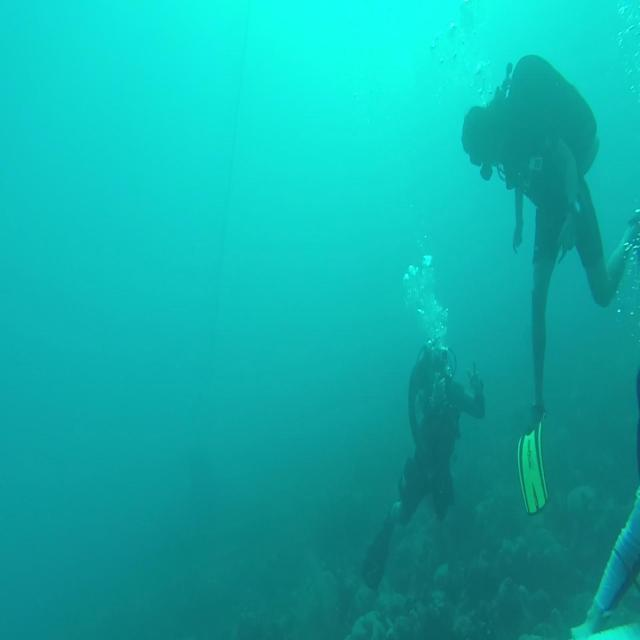human: (461, 52, 638, 514), (361, 339, 485, 593), (570, 367, 639, 638)
